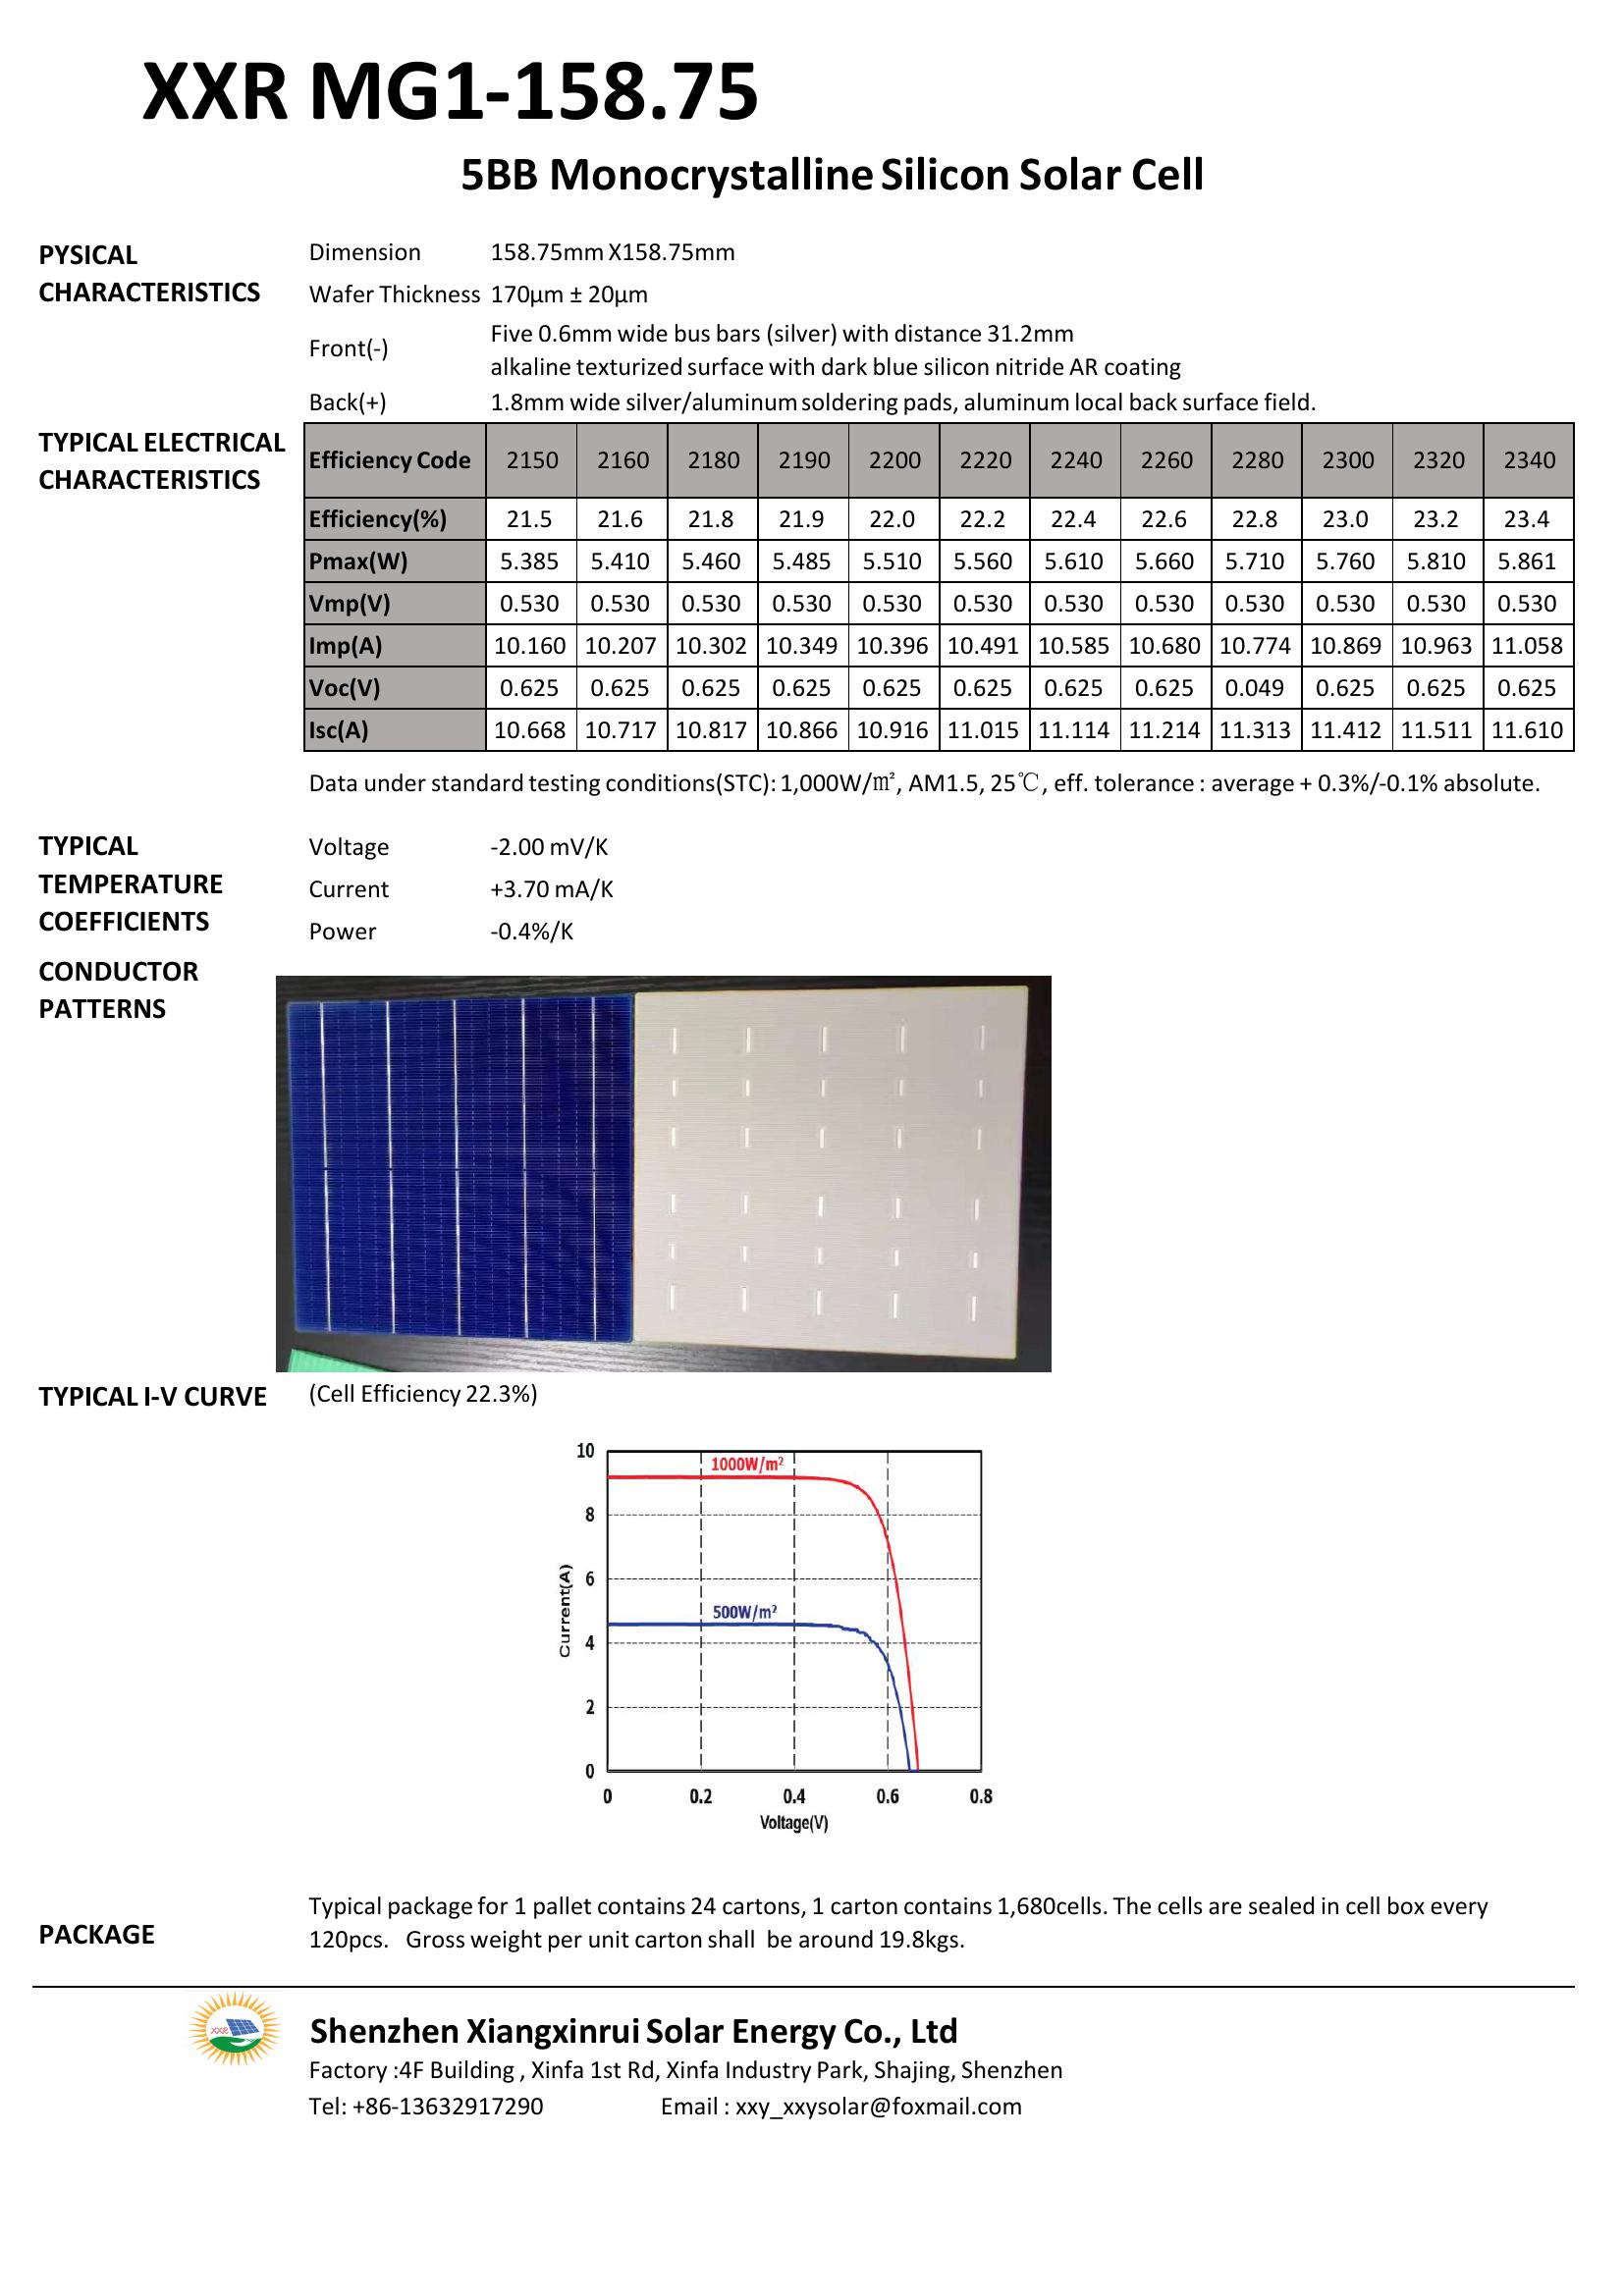table: (286, 415, 1591, 762)
